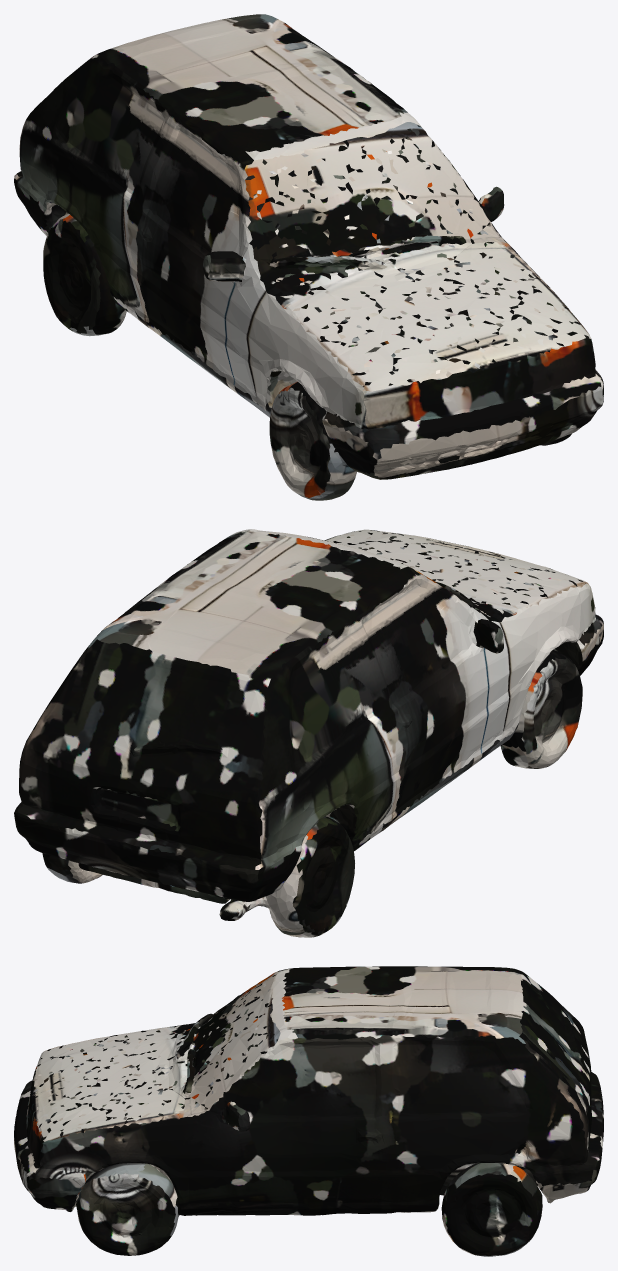
Rendered from uno-ia.glb.
The picture shows the model from 3 angles, top to bottom: view 1: azimuth 30°, elevation 25°; view 2: azimuth 150°, elevation 25°; view 3: azimuth 270°, elevation 25°; orthographic projection. The views are drawn at different scales.
Parts seen in each view (by area): view 1: geometry_0; view 2: geometry_0; view 3: geometry_0.
Part boxes in pixels (left/top/right/bottom): geometry_0: left=14, top=14, right=603, bottom=500; geometry_0: left=14, top=529, right=603, bottom=937; geometry_0: left=14, top=966, right=603, bottom=1256.
Size of the model in its own units: 0.9333 by 0.7957 by 1.99.
1 material, 1 textured.
